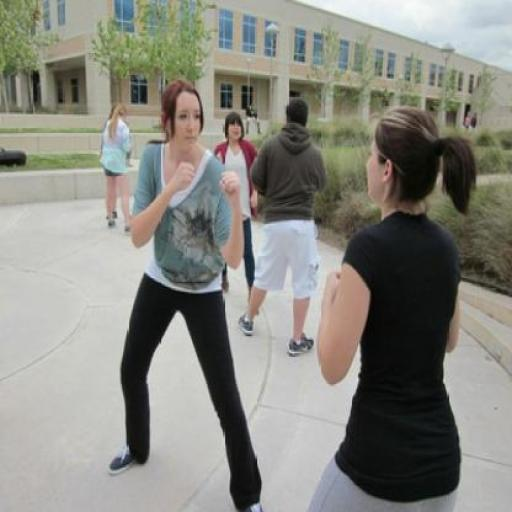Fighting: (111, 82, 474, 512)
